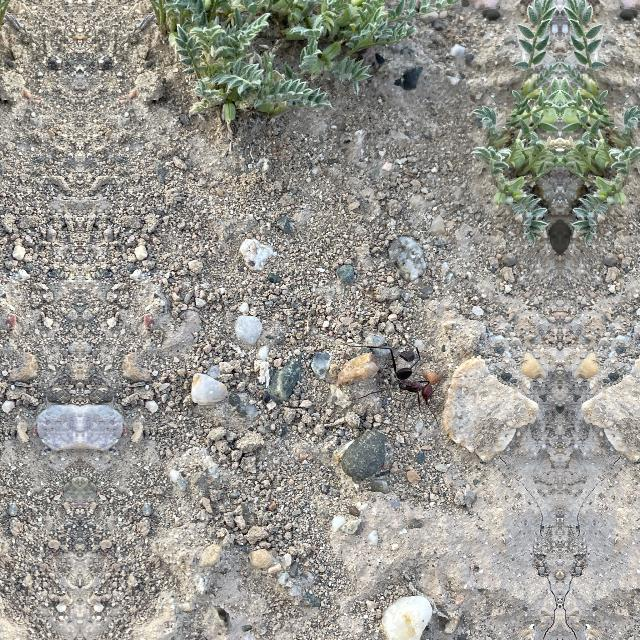Cataglyphis: (390, 364, 436, 406)
